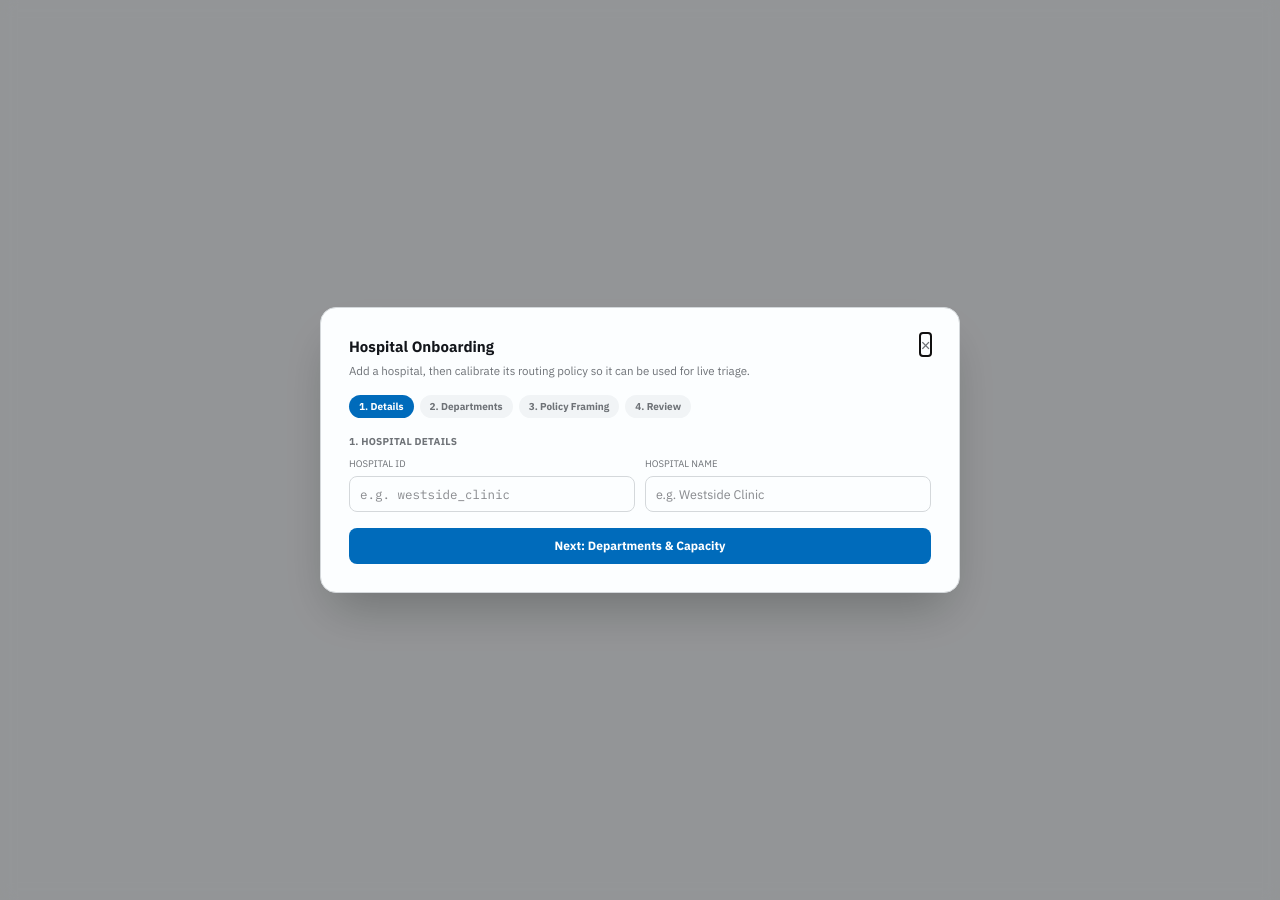
HospitalOnboardingWizard › walks Details -> Departments -> registers -> Policy Framing bound to the registered id, not a reactive session id
The image size is (1280, 900).
In the field with placeholder "e.g. westside_clinic": (492,494) [349,476,635,512], type "west"
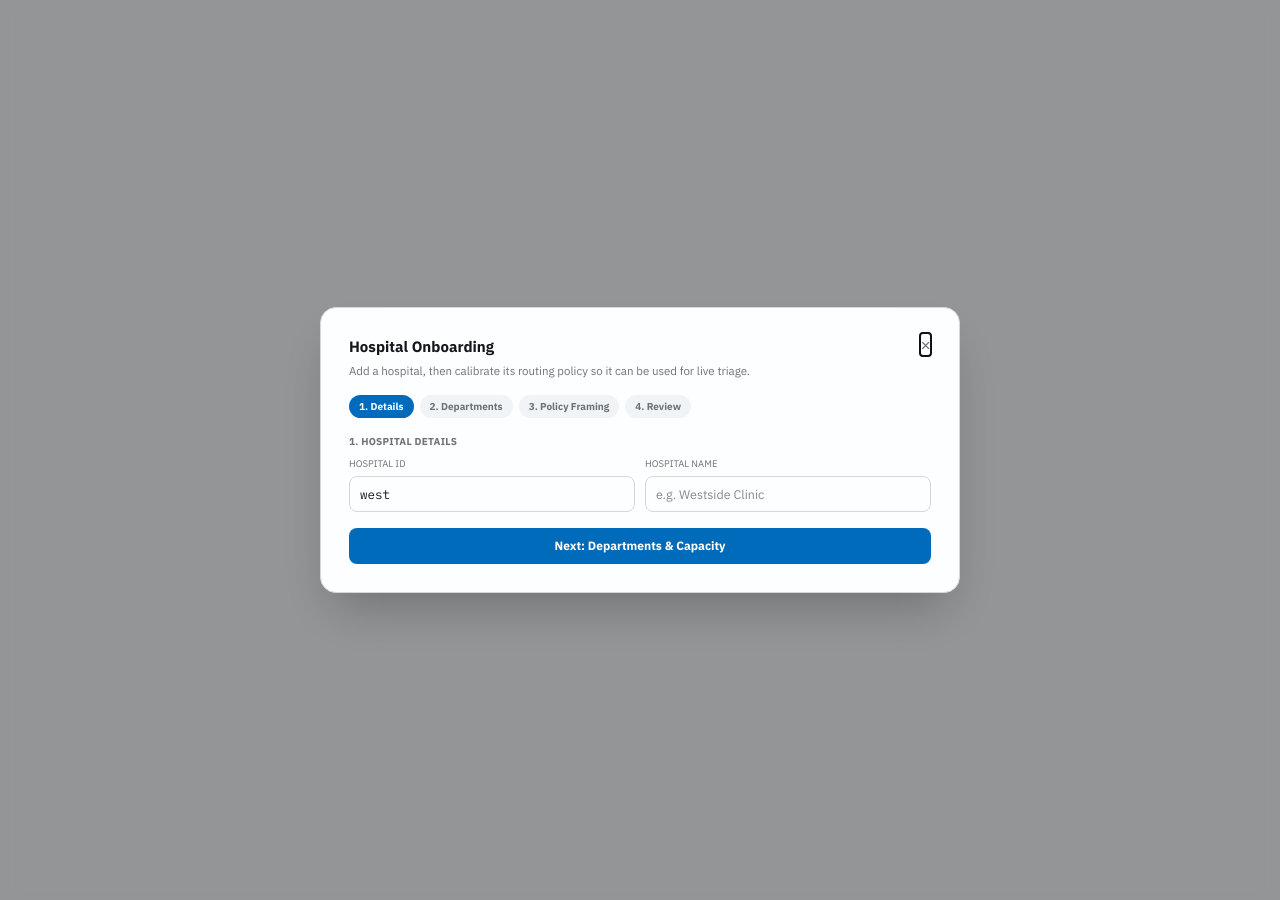
In the field with placeholder "e.g. Westside Clinic": (788,494) [645,476,931,512], type "Westside Clinic"
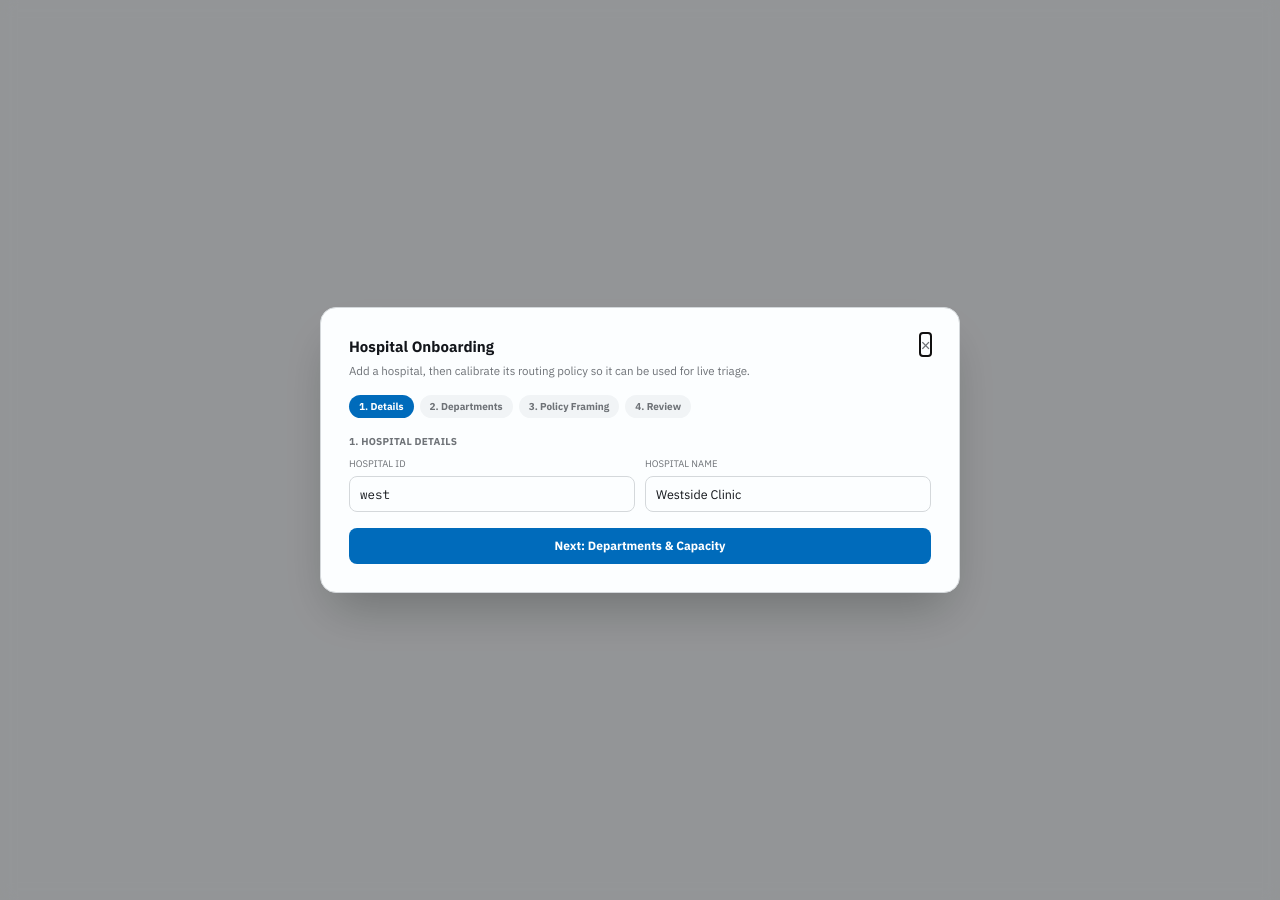
Click the button "Next: Departments & Capacity": (640,546) [349,528,931,564]
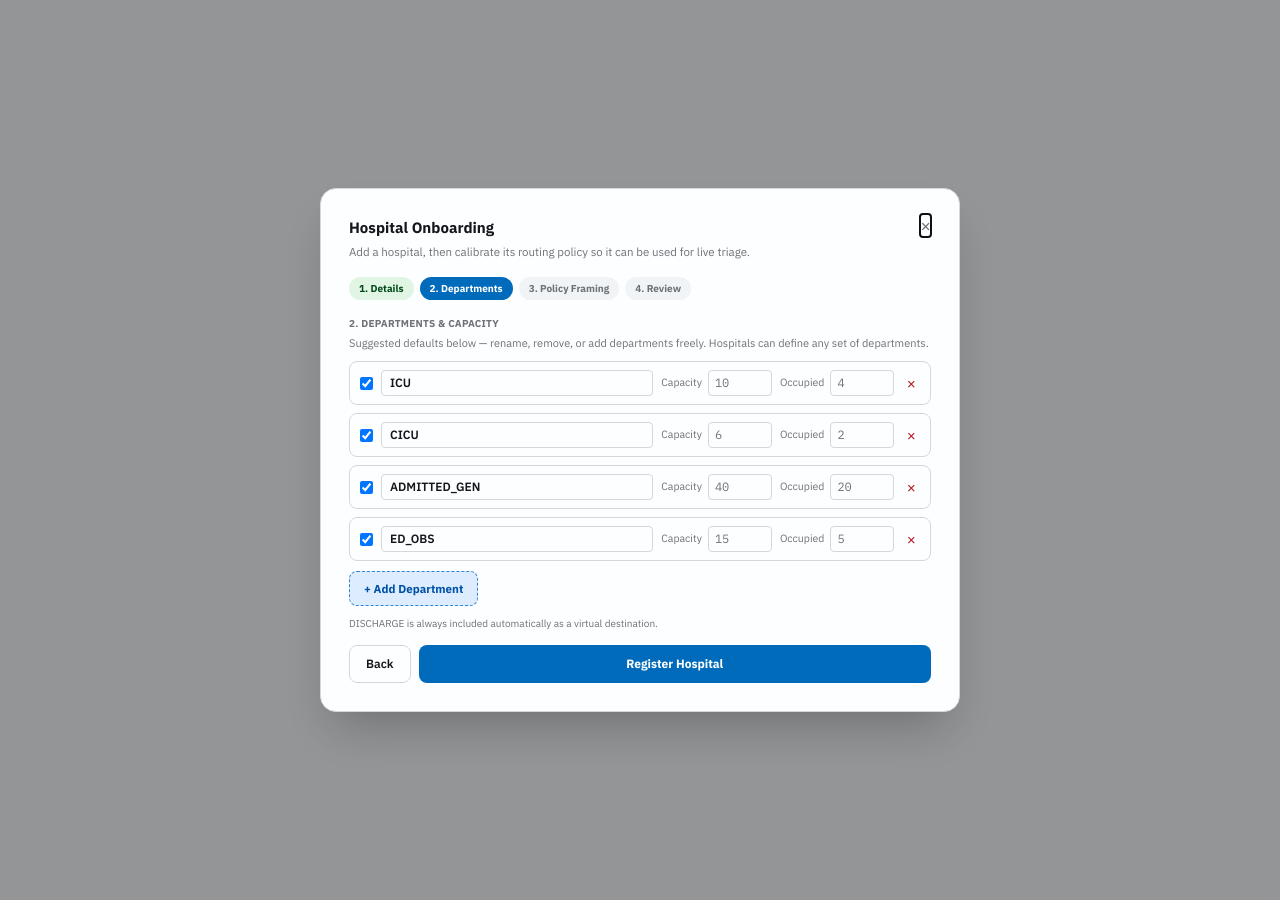
Click the button "Register Hospital": (675,664) [419,645,931,683]
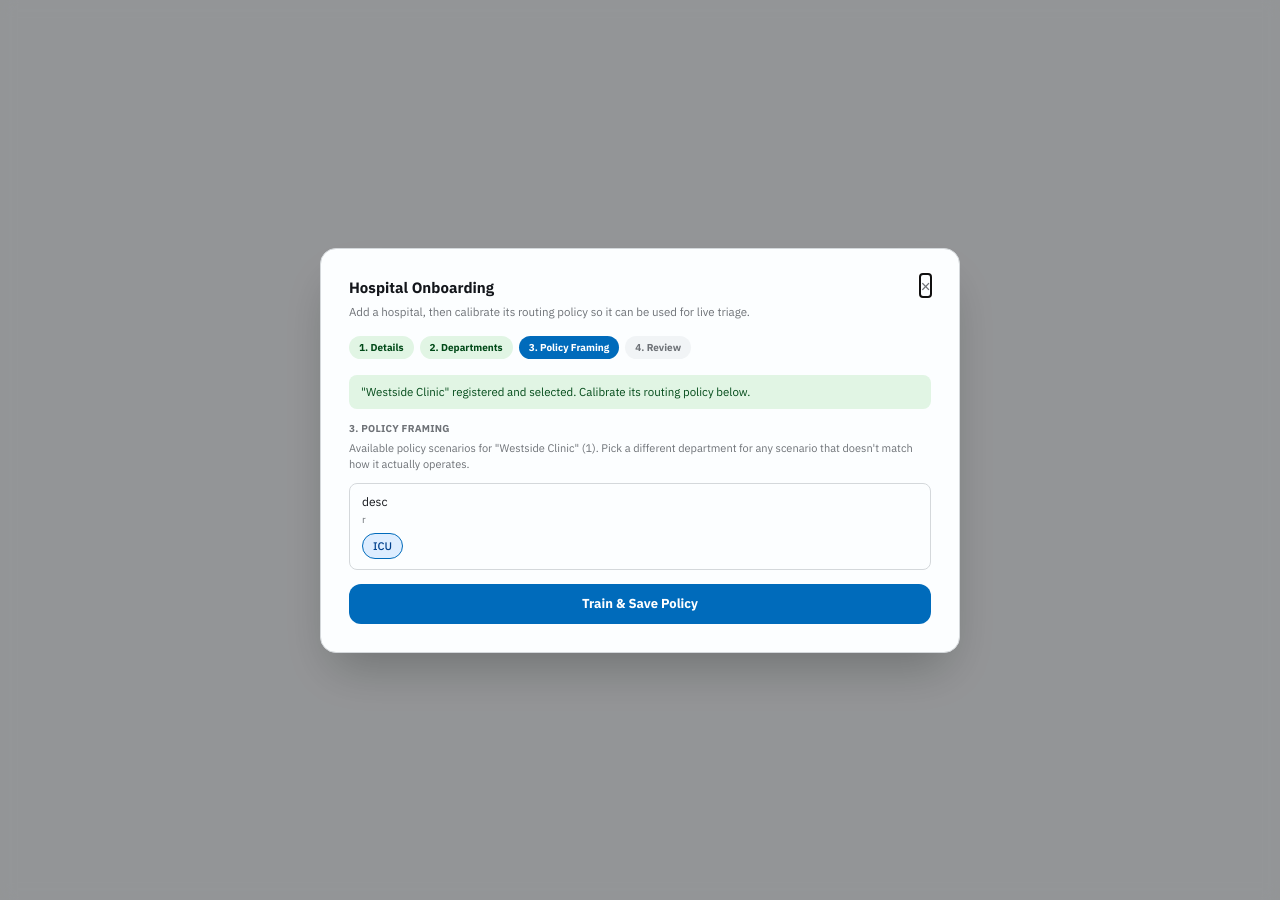
Expected: the text "registered and selected" is shown, [444,384,750,399]
